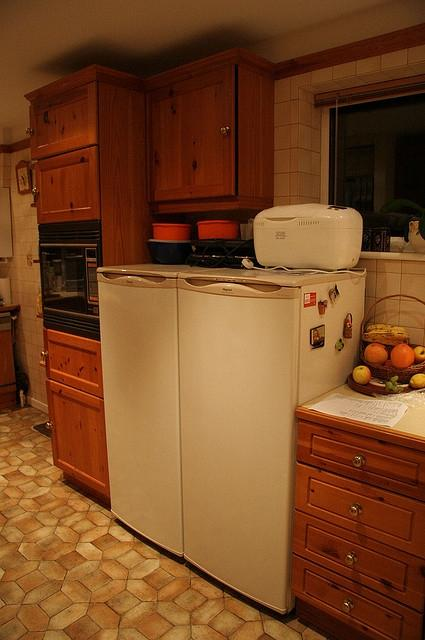banana: (368, 329, 410, 342), (380, 326, 407, 332)
grape: (391, 376, 398, 382), (387, 382, 393, 388), (392, 386, 398, 392), (392, 382, 398, 386), (385, 387, 390, 391), (385, 383, 388, 388)
lemon: (409, 374, 425, 388)
orange: (390, 344, 414, 368), (364, 343, 389, 365)
